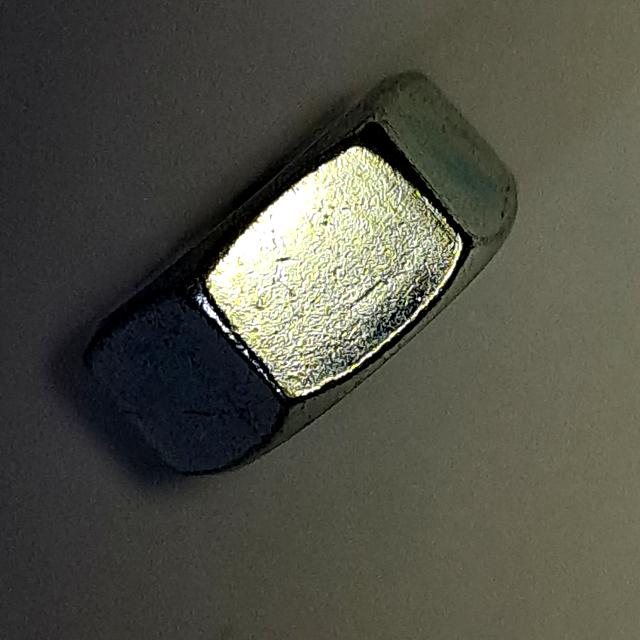Side_Excellent: (66, 61, 538, 486)
